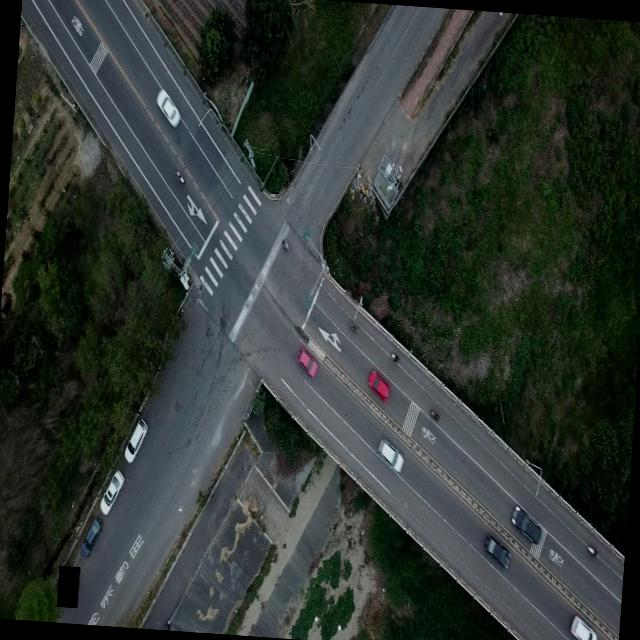bike: (346, 318, 360, 336), (585, 540, 598, 558), (388, 350, 399, 364), (280, 238, 291, 252), (430, 406, 440, 420), (177, 170, 186, 183)
car: (509, 502, 544, 542), (102, 468, 127, 515), (481, 531, 512, 568), (154, 90, 182, 130), (124, 416, 148, 462), (378, 437, 407, 474), (81, 514, 103, 558), (367, 366, 392, 401), (566, 615, 597, 640), (297, 346, 320, 378)
